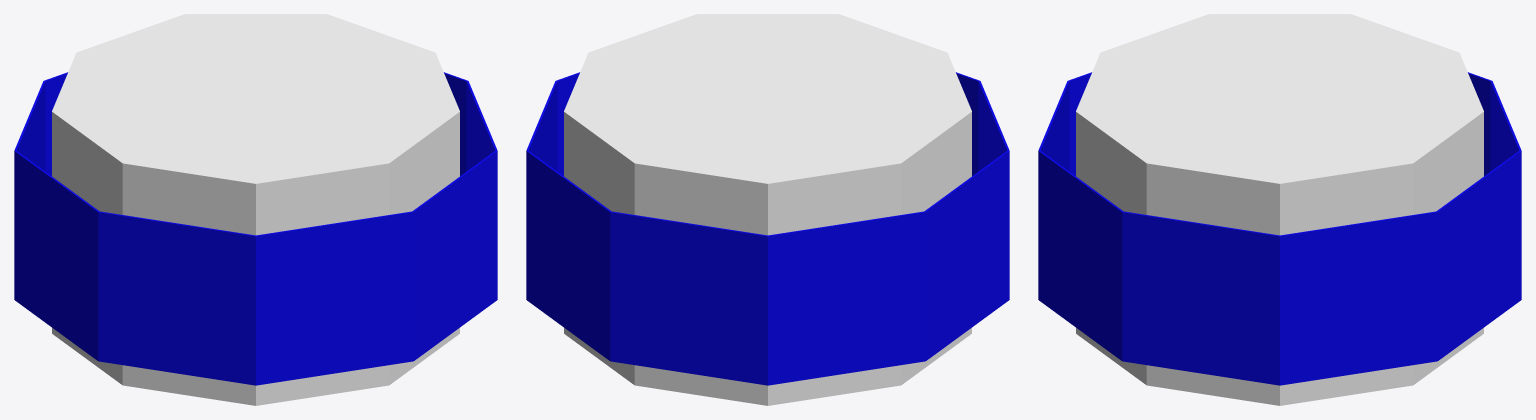
File: BouncerBlue.obj
3 views of the same model, side by side, from view 1: azimuth 30°, elevation 25°; view 2: azimuth 150°, elevation 25°; view 3: azimuth 270°, elevation 25° (orthographic).
Parts seen in each view (by area): view 1: Level_Models:pPipe6; view 2: Level_Models:pPipe6; view 3: Level_Models:pPipe6.
Boxes of the visible parts, box(x1,y1,x2,y2) form: Level_Models:pPipe6: box(14, 14, 497, 405); Level_Models:pPipe6: box(526, 14, 1009, 405); Level_Models:pPipe6: box(1038, 14, 1521, 405).
Bounding box in the file's own units: 0.6435 × 0.3312 × 0.6534.
2 materials, 2 textured.
